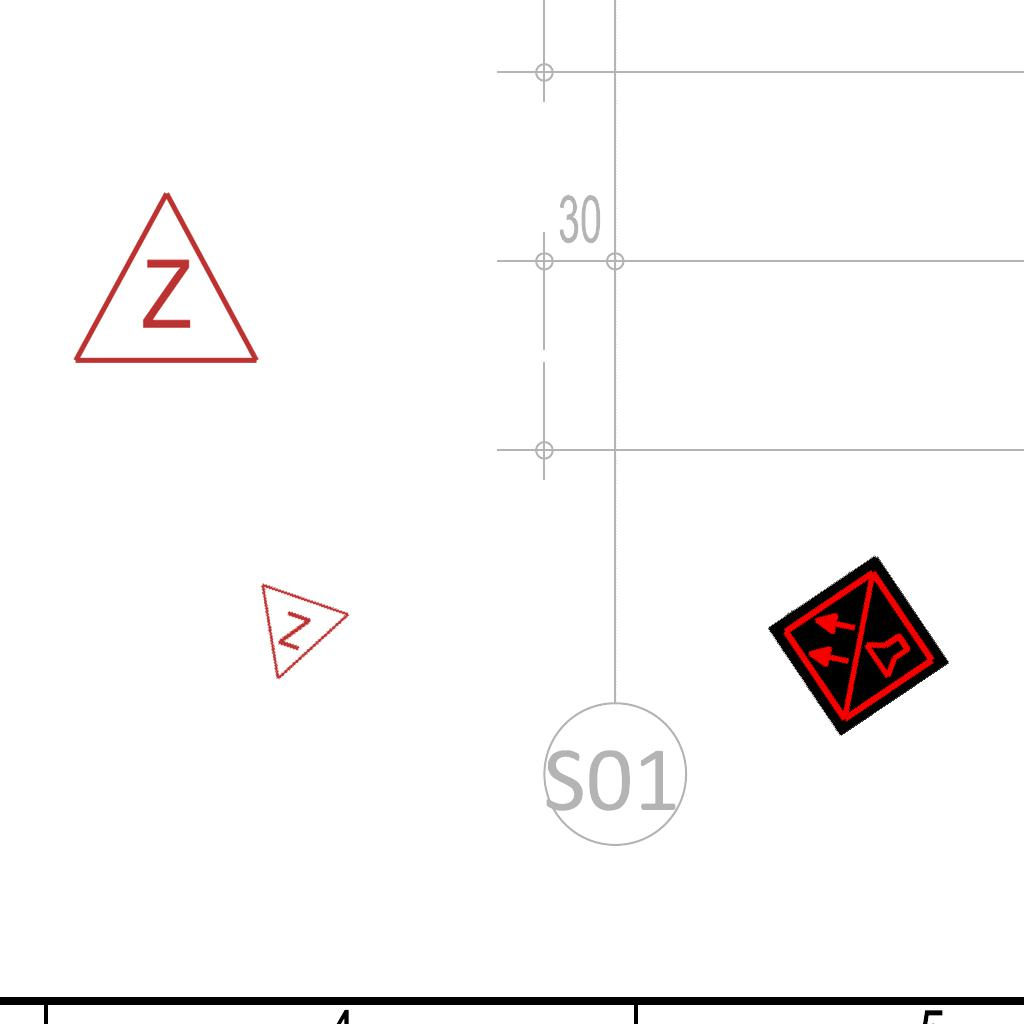OKW_Multisensormelder_(Kombination_optischer_Rauch-Kahlenmonoxid_Waerme-Melder): (766, 553, 950, 737)
Zimmersignalleuchte: (66, 178, 262, 378), (230, 575, 356, 703)
